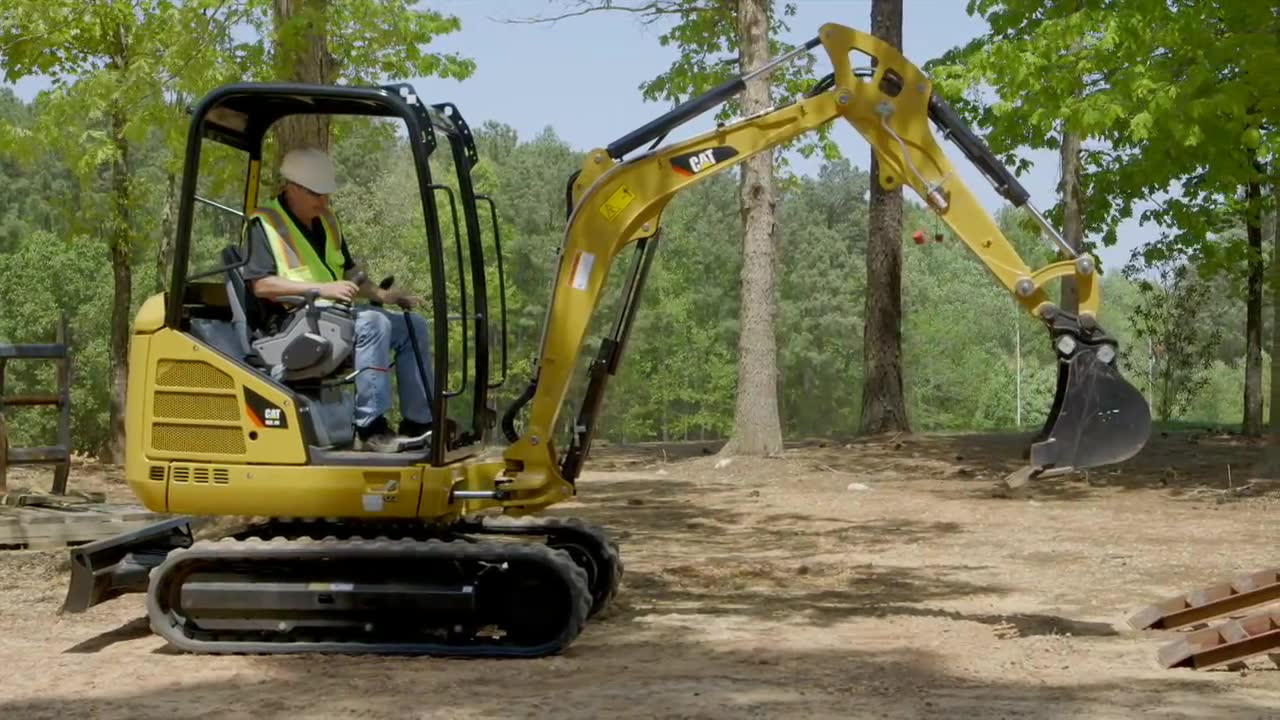attachment-bucket: (998, 311, 1158, 495)
cabin: (114, 84, 501, 526)
forearm: (816, 21, 1099, 327)
upperarm: (497, 86, 851, 507)
wheelbase: (124, 508, 635, 669)
